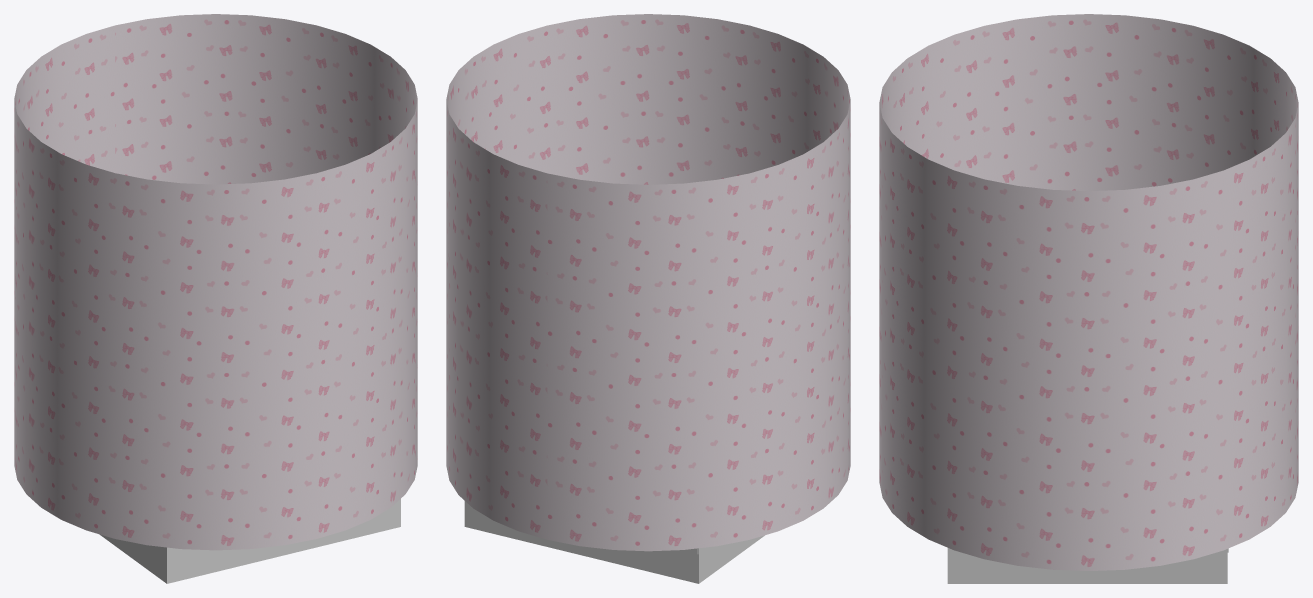
File: room_base.fbx
3 views of the same model, side by side, from view 1: azimuth 30°, elevation 25°; view 2: azimuth 150°, elevation 25°; view 3: azimuth 270°, elevation 25° (orthographic). The views are drawn at different scales.
Visible parts, largest first — view 1: Cylinder002, walltest; view 2: Cylinder002, walltest; view 3: Cylinder002, walltest.
Part boxes in pixels (bbox=[...]): Cylinder002: bbox=[14, 14, 417, 550]; walltest: bbox=[99, 499, 400, 583]; Cylinder002: bbox=[446, 14, 850, 551]; walltest: bbox=[464, 501, 764, 583]; Cylinder002: bbox=[879, 14, 1298, 570]; walltest: bbox=[947, 548, 1227, 583].
Size of the model in its own units: 5400 by 5999 by 5400.
